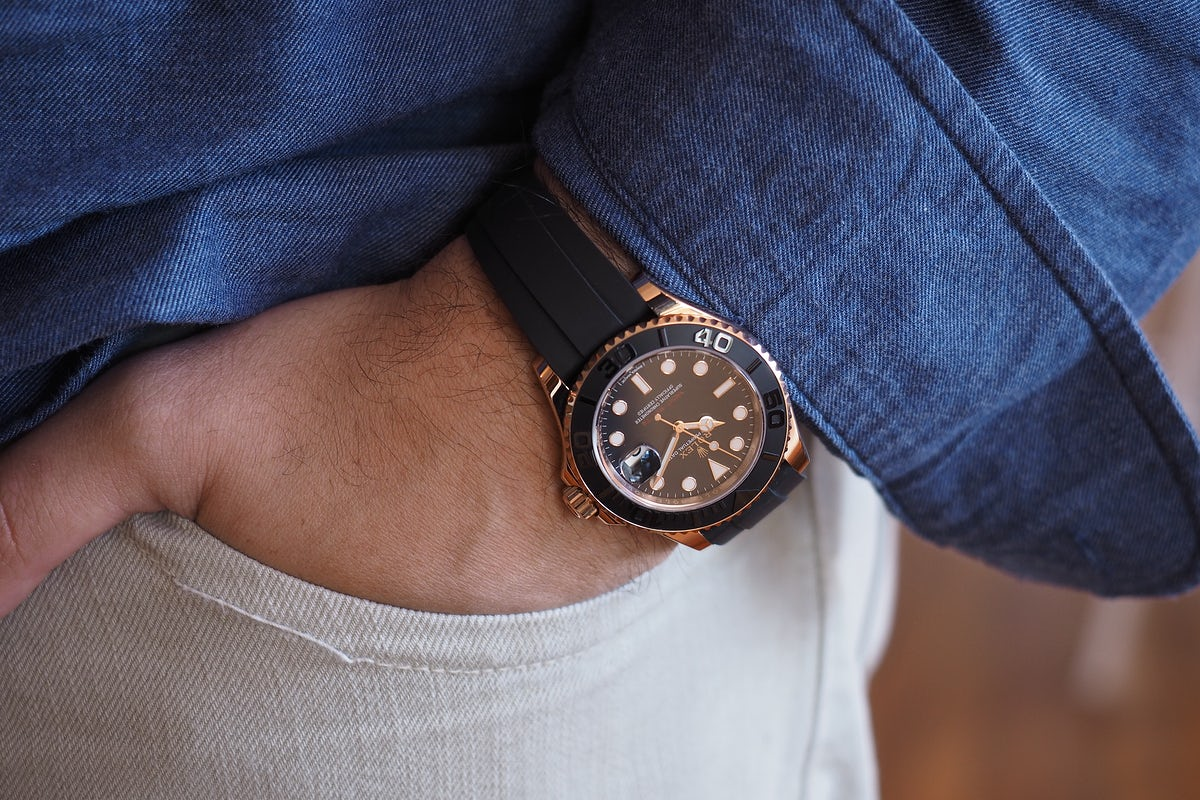clock: (593, 348, 768, 514)
